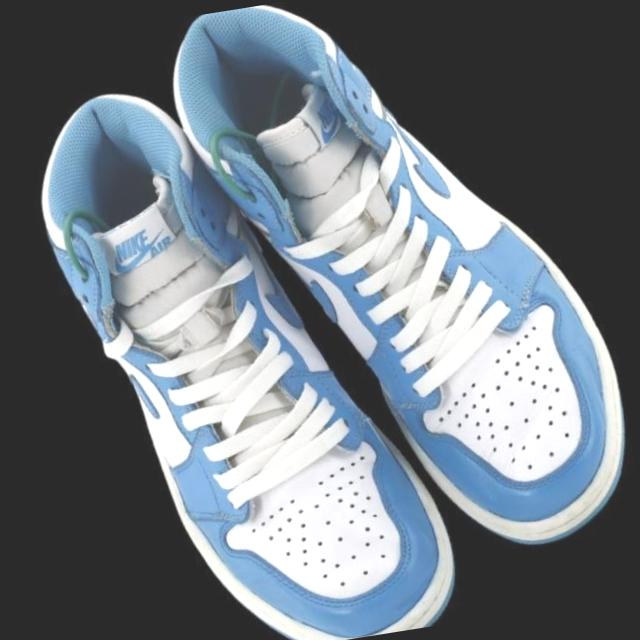nike_original_jordan: (132, 0, 640, 628), (0, 24, 498, 640)
